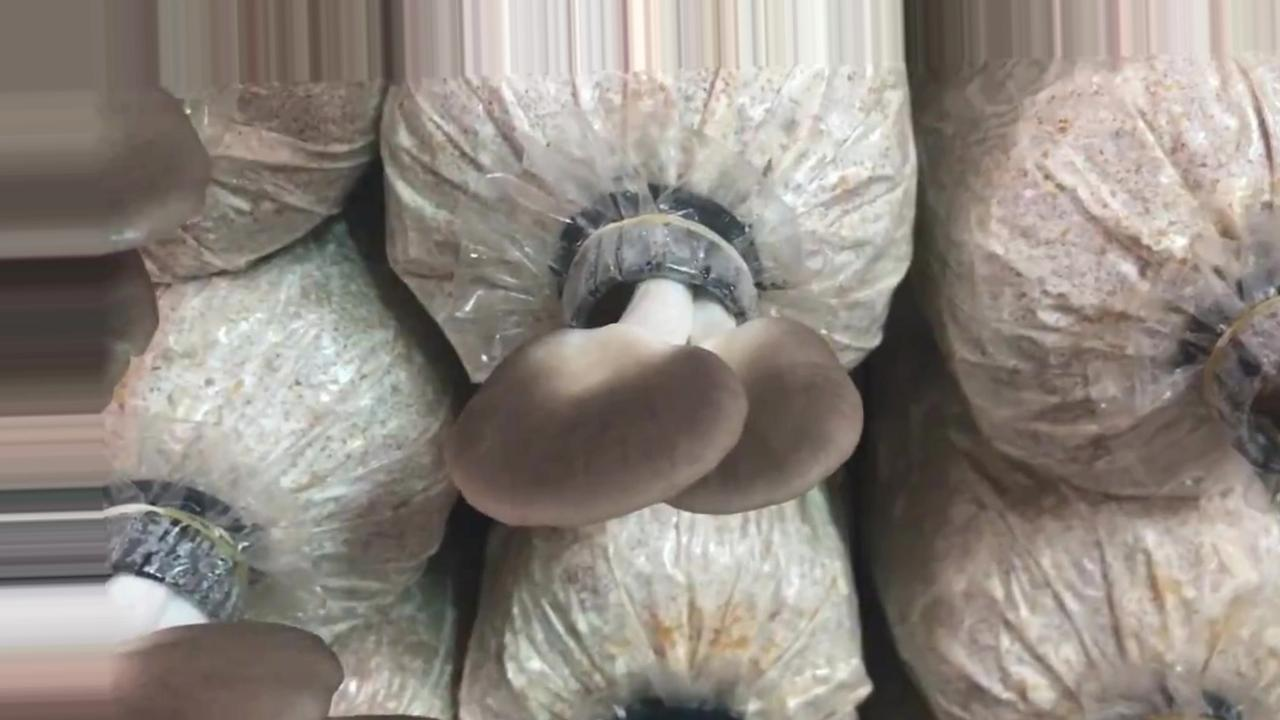nam: (446, 214, 866, 530), (1, 1, 209, 420), (1, 495, 345, 717)
